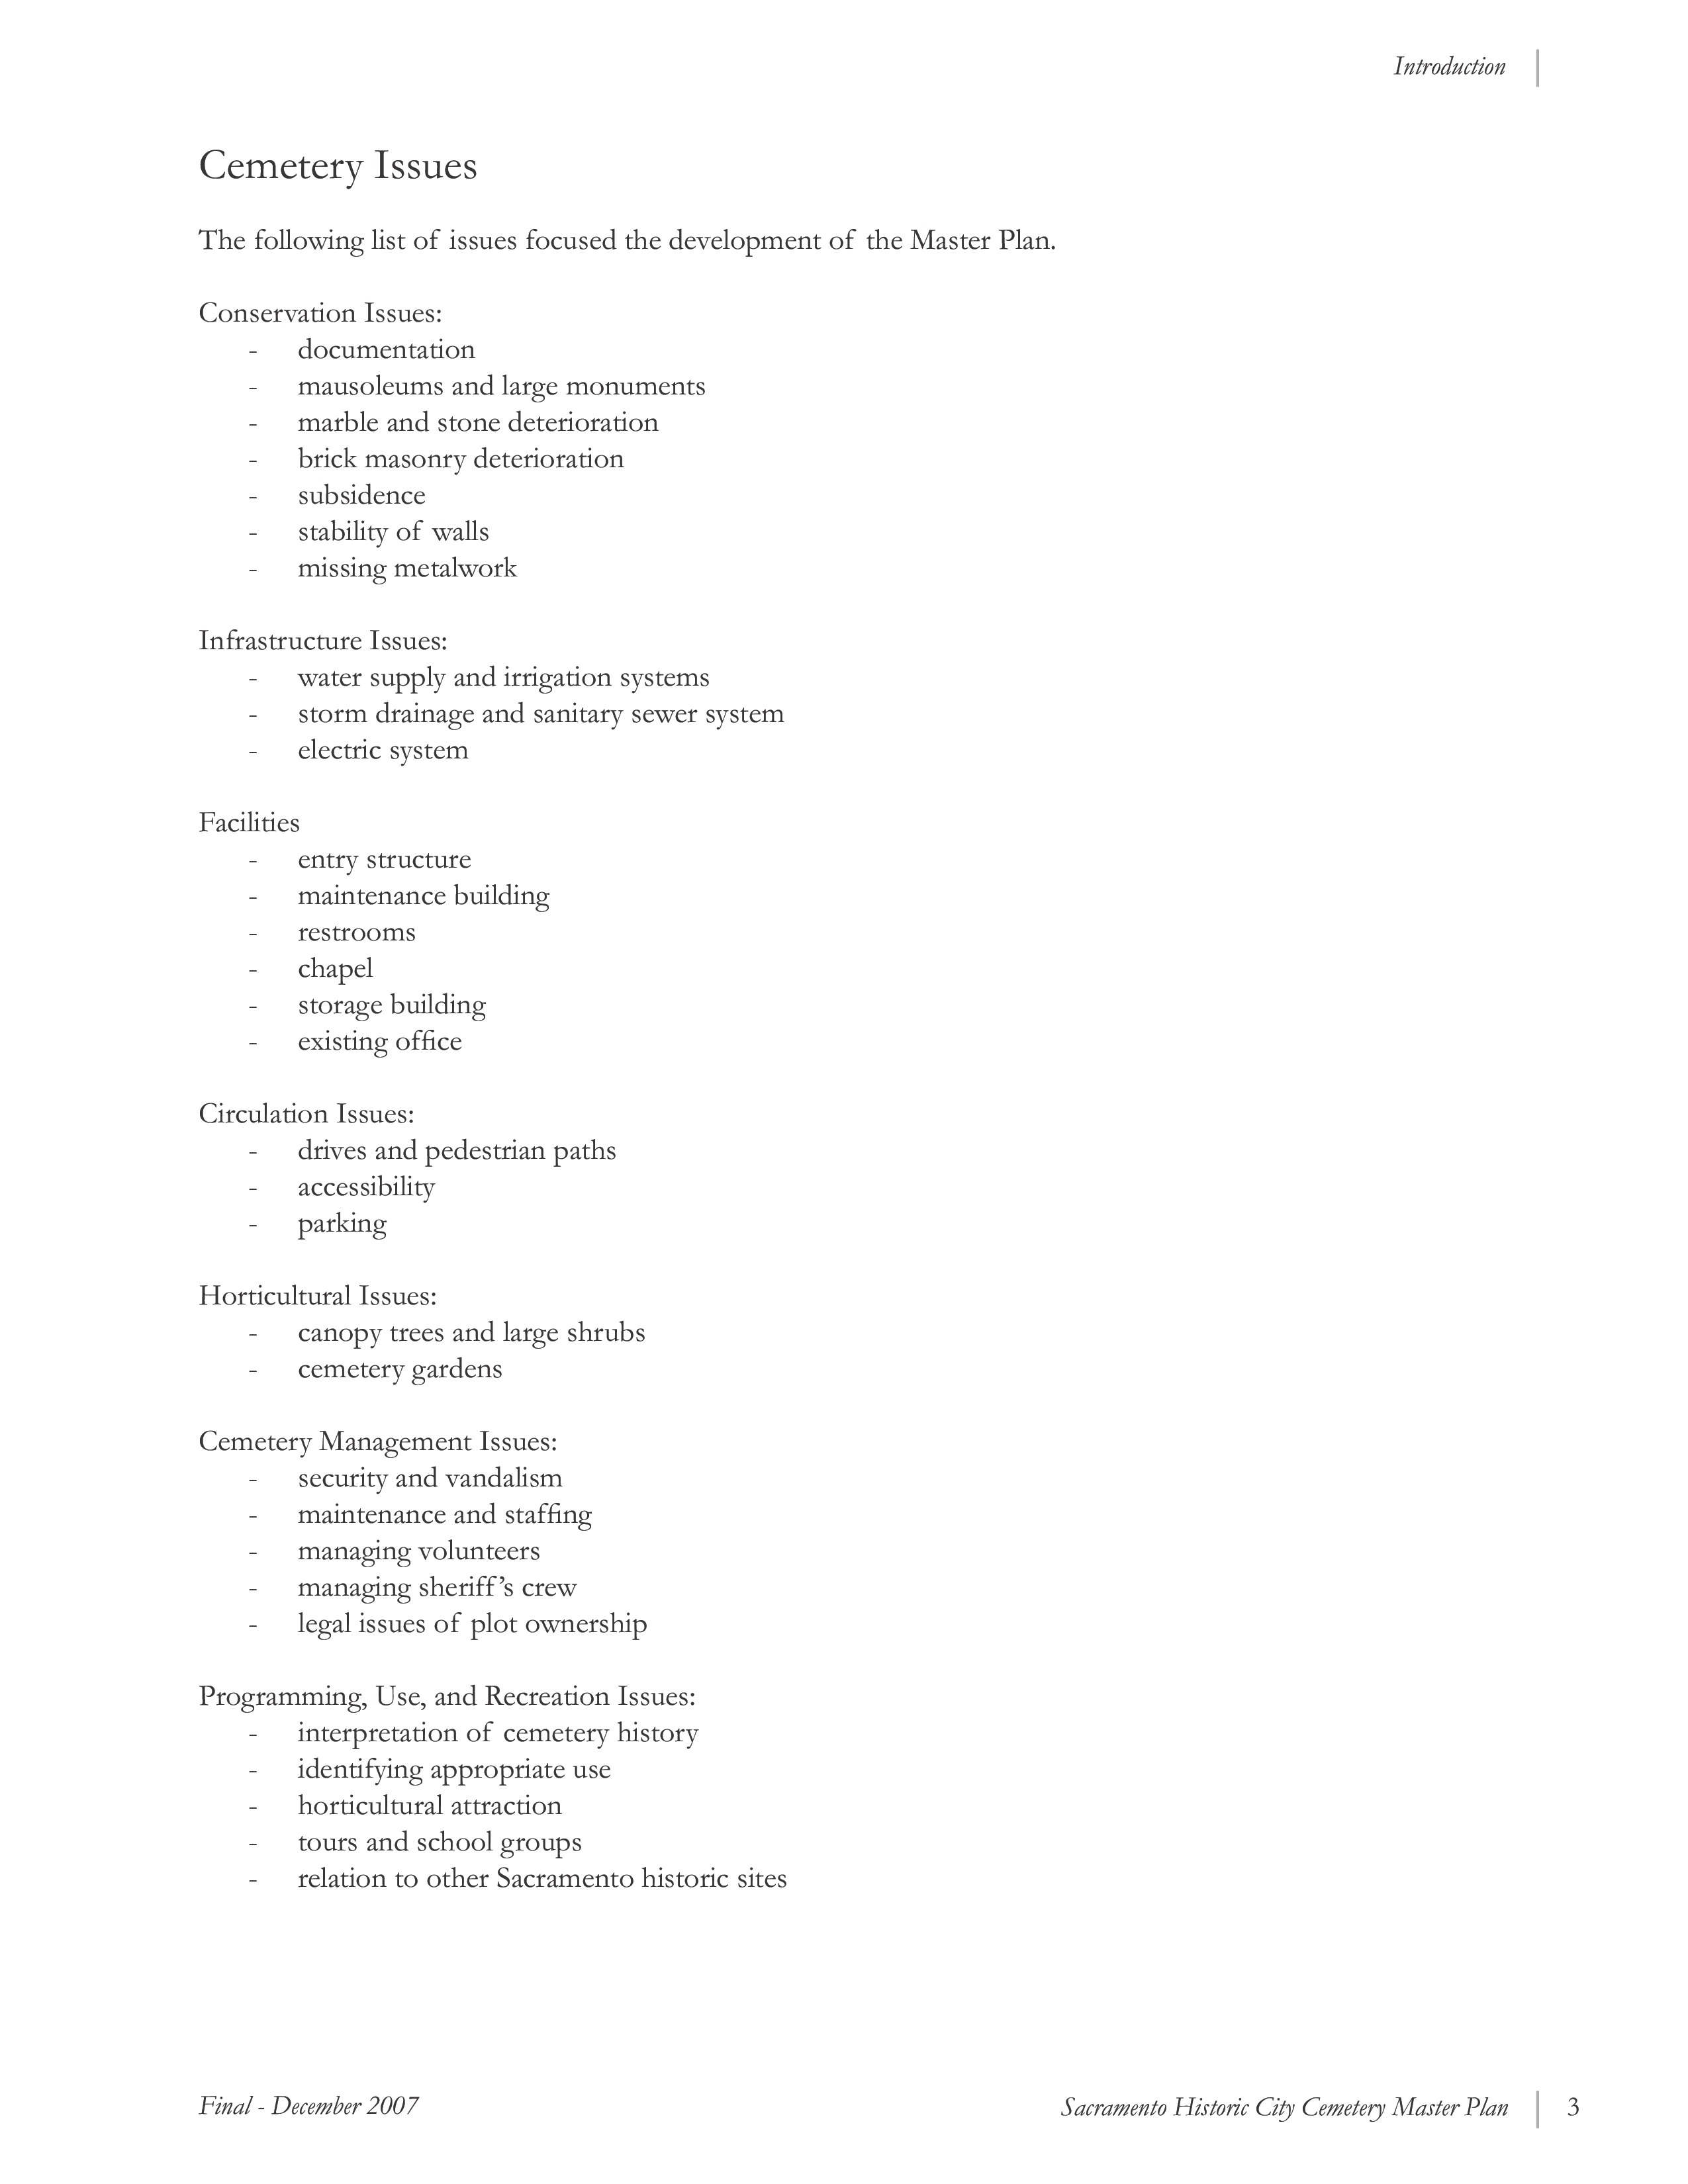list: (179, 211, 1067, 1920)
section: (188, 126, 509, 209)
